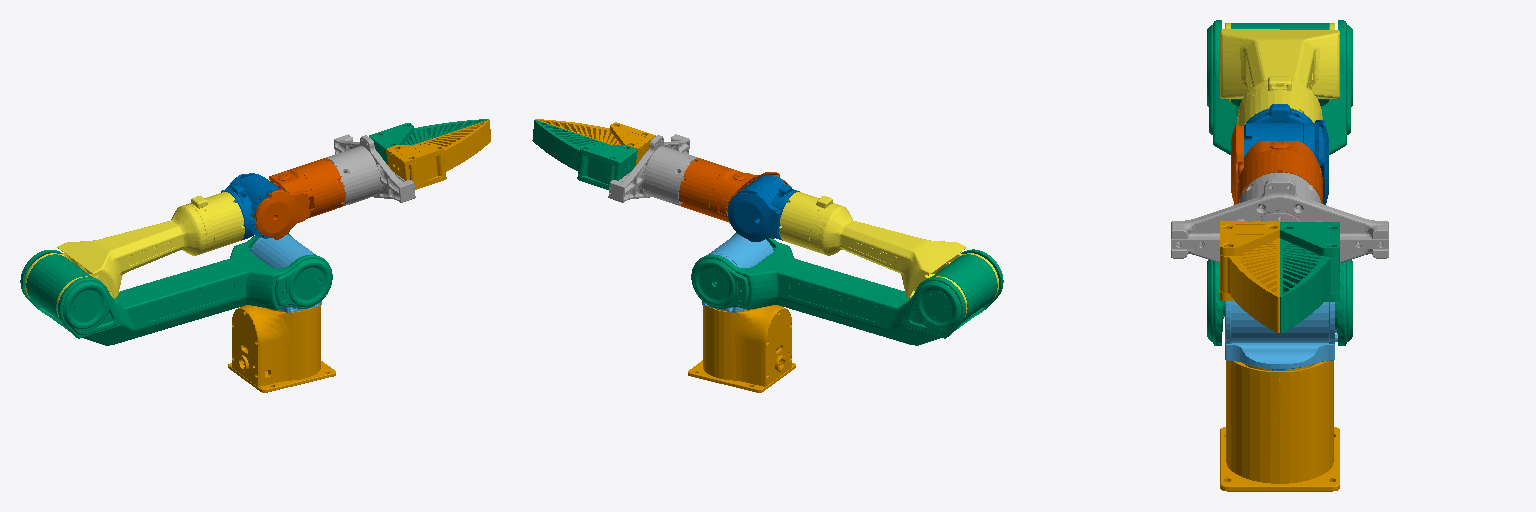
URDF robot description (piper):
<?xml version='1.0' encoding='utf-8'?>
<robot name="piper">
  <link name="right_base_link">
    <inertial>
      <origin xyz="-0.00473641164191482 2.56829134630247E-05 0.041451518036016" rpy="0 0 0" />
      <mass value="1.02" />
      <inertia ixx="0.00267433" ixy="-0.00000073" ixz="-0.00017389" iyy="0.00282612" iyz="0.0000004" izz="0.00089624" />
    </inertial>
    <visual>
      <origin xyz="0 0 0" rpy="0 0 0" />
      <geometry>
        <mesh filename="meshes/base_link.obj" />
      </geometry>
    </visual>
    <collision>
      <origin xyz="0 0 0" rpy="0 0 0" />
      <geometry>
        <mesh filename="meshes/base_link.obj" />
      </geometry>
    </collision>
  </link>
  <link name="right_link1">
    <inertial>
      <origin xyz="0.000121504734057468 0.000104632162460536 -0.00438597309559853" rpy="0 0 0" />
      <mass value="0.71" />
      <inertia ixx="0.00048916" ixy="-0.00000036" ixz="-0.00000224" iyy="0.00040472" iyz="-0.00000242" izz="0.00043982" />
    </inertial>
    <visual>
      <origin xyz="0 0 0" rpy="0 0 0" />
      <geometry>
        <mesh filename="meshes/link1.obj" />
      </geometry>
    </visual>
    <collision>
      <origin xyz="0 0 0" rpy="0 0 0" />
      <geometry>
        <mesh filename="meshes/link1.obj" />
      </geometry>
    </collision>
  </link>
  <joint name="right_joint1" type="revolute">
    <origin xyz="0 0 0.123" rpy="0 0 0" />
    <parent link="right_base_link" />
    <child link="right_link1" />
    <axis xyz="0 0 1" />
    <limit lower="-2.618" upper="2.618" effort="100" velocity="5" />
  </joint>
  <link name="right_link2">
    <inertial>
      <origin xyz="0.198666145229743 -0.010926924140076 0.00142121714502687" rpy="0 0 0" />
      <mass value="1.17" />
      <inertia ixx="0.00116918" ixy="-0.00180037" ixz="0.00025146" iyy="0.06785384" iyz="-0.00000455" izz="0.06774489" />
    </inertial>
    <visual>
      <origin xyz="0 0 0" rpy="0 0 0" />
      <geometry>
        <mesh filename="meshes/link2.obj" />
      </geometry>
    </visual>
    <collision>
      <origin xyz="0 0 0" rpy="0 0 0" />
      <geometry>
        <mesh filename="meshes/link2.obj" />
      </geometry>
    </collision>
  </link>
  <joint name="right_joint2" type="revolute">
    <origin xyz="0 0 0" rpy="1.5708 -0.1359 -3.1416" />
    <parent link="right_link1" />
    <child link="right_link2" />
    <axis xyz="0 0 1" />
    <limit lower="0" upper="3.14" effort="100" velocity="5" />
  </joint>
  <link name="right_link3">
    <inertial>
      <origin xyz="-0.0202737662122021 -0.133914995944595 -0.000458682652737356" rpy="0 0 0" />
      <mass value="0.5" />
      <inertia ixx="0.01361711" ixy="0.00165794" ixz="-0.00000048" iyy="0.00045024" iyz="-0.00000045" izz="0.01380322" />
    </inertial>
    <visual>
      <origin xyz="0 0 0" rpy="0 0 0" />
      <geometry>
        <mesh filename="meshes/link3.obj" />
      </geometry>
    </visual>
    <collision>
      <origin xyz="0 0 0" rpy="0 0 0" />
      <geometry>
        <mesh filename="meshes/link3.obj" />
      </geometry>
    </collision>
  </link>
  <joint name="right_joint3" type="revolute">
    <origin xyz="0.28503 0 0" rpy="0 0 -1.7939" />
    <parent link="right_link2" />
    <child link="right_link3" />
    <axis xyz="0 0 1" />
    <limit lower="-2.967" upper="0" effort="100" velocity="5" />
  </joint>
  <link name="right_link4">
    <inertial>
      <origin xyz="-9.66635791618542E-05 0.000876064475651083 -0.00496880904640868" rpy="0 0 0" />
      <mass value="0.38" />
      <inertia ixx="0.00018501" ixy="0.00000054" ixz="0.00000120" iyy="0.00018965" iyz="-0.00000841" izz="0.00015484" />
    </inertial>
    <visual>
      <origin xyz="0 0 0" rpy="0 0 0" />
      <geometry>
        <mesh filename="meshes/link4.obj" />
      </geometry>
    </visual>
    <collision>
      <origin xyz="0 0 0" rpy="0 0 0" />
      <geometry>
        <mesh filename="meshes/link4.obj" />
      </geometry>
    </collision>
  </link>
  <joint name="right_joint4" type="revolute">
    <origin xyz="-0.021984 -0.25075 0" rpy="1.5708 0 0" />
    <parent link="right_link3" />
    <child link="right_link4" />
    <axis xyz="0 0 1" />
    <limit lower="-1.745" upper="1.745" effort="100" velocity="5" />
  </joint>
  <link name="right_link5">
    <inertial>
      <origin xyz="-4.10554118924211E-05 -0.0566486692356075 -0.0037205791677906" rpy="0 0 0" />
      <mass value="0.383" />
      <inertia ixx="0.00166169" ixy="0.00000006" ixz="-0.00000007" iyy="0.00018510" iyz="0.00001026" izz="0.00164321" />
    </inertial>
    <visual>
      <origin xyz="0 0 0" rpy="0 0 0" />
      <geometry>
        <mesh filename="meshes/link5.obj" />
      </geometry>
    </visual>
    <collision>
      <origin xyz="0 0 0" rpy="0 0 0" />
      <geometry>
        <mesh filename="meshes/link5.obj" />
      </geometry>
    </collision>
  </link>
  <joint name="right_joint5" type="revolute">
    <origin xyz="0 0 0" rpy="-1.5708 0 0" />
    <parent link="right_link4" />
    <child link="right_link5" />
    <axis xyz="0 0 1" />
    <limit lower="-1.308" upper="1.308" effort="100" velocity="5" />
  </joint>
  <link name="right_link6">
    <inertial>
      <origin xyz="-8.82590762930069E-05 9.0598378529832E-06 -0.002" rpy="0 0 0" />
      <mass value="0.007" />
      <inertia ixx="5.73015540542155E-07" ixy="-1.98305403089247E-22" ixz="-7.2791893904596E-23" iyy="5.73015540542155E-07" iyz="-3.4146026640245E-24" izz="1.06738869138926E-06" />
    </inertial>
    <visual>
      <origin xyz="0 0 0" rpy="0 0 0" />
      <geometry>
        <mesh filename="meshes/link6.obj" />
      </geometry>
    </visual>
    <collision>
      <origin xyz="0 0 0" rpy="0 0 0" />
      <geometry>
        <mesh filename="meshes/link6.obj" />
      </geometry>
    </collision>
  </link>
  <joint name="right_joint6" type="revolute">
    <origin xyz="8.8259E-05 -0.091 0" rpy="1.5708 0 0" />
    <parent link="right_link5" />
    <child link="right_link6" />
    <axis xyz="0 0 1" />
    <limit lower="-2.967" upper="2.967" effort="100" velocity="3" />
  </joint>
  <link name="right_gripper_base">
    <inertial>
      <origin xyz="-0.000183807162235591 8.05033155577911E-05 0.0321436689908876" rpy="0 0 0" />
      <mass value="0.45" />
      <inertia ixx="0.00092934" ixy="0.00000034" ixz="-0.00000738" iyy="0.00071447" iyz="0.00000005" izz="0.00039442" />
    </inertial>
    <visual>
      <origin xyz="0 0 0" rpy="0 0 0" />
      <geometry>
        <mesh filename="meshes/gripper_base.obj" />
      </geometry>
    </visual>
    <collision>
      <origin xyz="0 0 0" rpy="0 0 0" />
      <geometry>
        <mesh filename="meshes/gripper_base.obj" />
      </geometry>
    </collision>
  </link>
  <joint name="right_joint6_to_gripper_base" type="fixed">
    <origin xyz="0 0 0" rpy="0 0 0" />
    <parent link="right_link6" />
    <child link="right_gripper_base" />
  </joint>
  <link name="right_link7">
    <inertial>
      <origin xyz="0.00065123185041968 -0.0491929869131989 0.00972258769184025" rpy="0 0 0" />
      <mass value="0.025" />
      <inertia ixx="0.00007371" ixy="-0.00000113" ixz="0.00000021" iyy="0.00000781" iyz="-0.00001372" izz="0.0000747" />
    </inertial>
    <visual>
      <origin xyz="0 0 0" rpy="0 0 0" />
      <geometry>
        <mesh filename="meshes/umi_gripper.obj" scale="0.001 0.001 0.001" />
      </geometry>
    </visual>
    <collision>
      <origin xyz="0 0 0" rpy="0 0 0" />
      <geometry>
        <mesh filename="meshes/umi_gripper.obj" scale="0.001 0.001 0.001" />
      </geometry>
    </collision>
  </link>
  <joint name="right_joint7" type="prismatic">
    <origin xyz="0.013 0 0.2" rpy="-1.5708 0 -1.5708" />
    <parent link="right_gripper_base" />
    <child link="right_link7" />
    <axis xyz="1 0 0" />
    <limit lower="0" upper="0.04" effort="10" velocity="1" />
  </joint>
  <joint name="right_arm_elastomer_joint_left" type="fixed">
    <origin rpy="3.1415926 1.5708 1.5708" xyz="0.0012 0.035 -0.013" />
    <parent link="right_link7" />
    <child link="right_arm_elastomer_left" />
    <axis xyz="0 0 0" />
  </joint>
  <link name="right_arm_elastomer_left">
    <visual>
      <origin rpy="0 0 0" xyz="0 0 -0.00" />
      <geometry>
        <mesh filename="meshes/aloha_flat_pad.obj" />
      </geometry>
    </visual>
    <collision>
      <origin rpy="0 0 0" xyz="0 0 -0.00" />
      <geometry>
        <mesh filename="meshes/aloha_flat_pad.obj" />
      </geometry>
    </collision>
  </link>
  <link name="right_link8">
    <inertial>
      <origin xyz="0.000651231850419722 -0.0491929869131991 0.00972258769184024" rpy="0 0 0" />
      <mass value="0.025" />
      <inertia ixx="0.00007371" ixy="-0.00000113" ixz="0.00000021" iyy="0.00000781" iyz="-0.00001372" izz="0.0000747" />
    </inertial>
    <visual>
      <origin xyz="0 0 0" rpy="0 0 0" />
      <geometry>
        <mesh filename="meshes/umi_gripper.obj" scale="0.001 0.001 0.001" />
      </geometry>
    </visual>
    <collision>
      <origin xyz="0 0 0" rpy="0 0 0" />
      <geometry>
        <mesh filename="meshes/umi_gripper.obj" scale="0.001 0.001 0.001" />
      </geometry>
    </collision>
  </link>
  <joint name="right_joint8" type="prismatic">
    <origin xyz="-0.013 0 0.2" rpy="-1.5708 0  1.5708 " />
    <parent link="right_gripper_base" />
    <child link="right_link8" />
    <axis xyz="-1 0 0" />
    <limit lower="-0.04" upper="0" effort="10" velocity="1" />
  </joint>
  <joint name="right_arm_elastomer_joint_right" type="fixed">
    <origin rpy="3.1415926 1.5708 1.5708" xyz="0.0012 0.035 -0.013" />
    <parent link="right_link8" />
    <child link="right_arm_elastomer_right" />
    <axis xyz="0 0 0" />
  </joint>
  <link name="right_arm_elastomer_right">
    <visual>
      <origin rpy="0 0 0" xyz="0 0 -0.00" />
      <geometry>
        <mesh filename="meshes/aloha_flat_pad.obj" />
      </geometry>
    </visual>
    <collision>
      <origin rpy="0 0 0" xyz="0 0 -0.00" />
      <geometry>
        <mesh filename="meshes/aloha_flat_pad.obj" />
      </geometry>
    </collision>
  </link>
  <link name="right_tool_tip_link" />
  <joint name="right_tool_tip_joint" type="fixed">
    <origin rpy="0 0 0" xyz="0 0 0.120" />
    <parent link="right_gripper_base" />
    <child link="right_tool_tip_link" />
  </joint>
</robot>

--- What the picture shows (computed from the rendered views, not written in the file) ---
3 views of the same robot in one strip: view 1: azimuth 30°, elevation 25°; view 2: azimuth 150°, elevation 25°; view 3: azimuth 270°, elevation 25° (orthographic).
Robot: piper — 13 links, 12 joints (6 revolute, 2 prismatic, 4 fixed); root link right_base_link; default pose: all joints at 0.
Links seen in each view (by area): view 1: right_link2, right_link3, right_base_link, right_link5, right_link7, right_gripper_base, right_link4, right_link8, right_link1; view 2: right_link2, right_link3, right_base_link, right_link8, right_gripper_base, right_link4, right_link5, right_link7, right_link1; view 3: right_base_link, right_link3, right_gripper_base, right_link2, right_link7, right_link8, right_link1, right_link5, right_link4.
Link boxes in pixels (bbox=[...]): right_link2: bbox=[20, 233, 332, 345]; right_link3: bbox=[25, 192, 244, 316]; right_base_link: bbox=[228, 305, 335, 392]; right_link5: bbox=[254, 158, 344, 239]; right_link7: bbox=[386, 120, 490, 189]; right_gripper_base: bbox=[326, 134, 415, 207]; right_link4: bbox=[221, 173, 280, 240]; right_link8: bbox=[369, 119, 488, 164]; right_link1: bbox=[250, 234, 321, 312]; right_link2: bbox=[691, 232, 1003, 345]; right_link3: bbox=[779, 192, 998, 316]; right_base_link: bbox=[688, 305, 795, 392]; right_link8: bbox=[532, 120, 636, 189]; right_gripper_base: bbox=[608, 134, 697, 206]; right_link4: bbox=[727, 175, 799, 241]; right_link5: bbox=[679, 158, 789, 222]; right_link7: bbox=[535, 119, 655, 164]; right_link1: bbox=[702, 233, 773, 312]; right_base_link: bbox=[1220, 361, 1339, 491]; right_link3: bbox=[1220, 23, 1339, 125]; right_gripper_base: bbox=[1171, 172, 1388, 262]; right_link2: bbox=[1207, 20, 1352, 345]; right_link7: bbox=[1220, 221, 1279, 332]; right_link8: bbox=[1280, 222, 1339, 332]; right_link1: bbox=[1225, 301, 1337, 370]; right_link5: bbox=[1231, 124, 1322, 204]; right_link4: bbox=[1244, 104, 1328, 204].
Bounding box of the posed robot: 0.5704 × 0.145 × 0.2574 m (x, y, z).
10 mesh visuals loaded from 10 distinct referenced files (9 OBJ); not drawn: 2 (reference not matched to a file when rendering).
